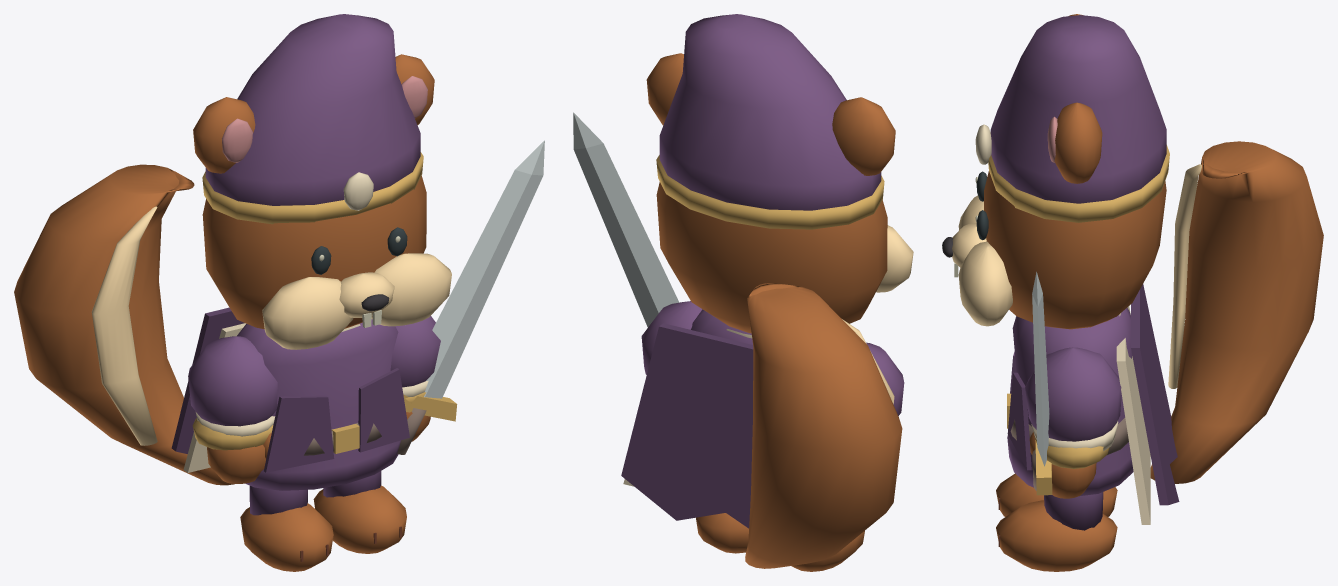
The model's file is giant.glb.
3 renders of one model, left to right at view 1: azimuth 30°, elevation 25°; view 2: azimuth 150°, elevation 25°; view 3: azimuth 270°, elevation 25°, orthographic. The views are drawn at different scales.
Parts seen in each view (by area): view 1: Squirrel large curled tail, Folded Persian tiara, Animal cheek head, Short folded tunic, Shaped bevel sword, Squirrel pale tail sweep, Puff sleeve, Squirrel plump cheek, Soft animal paw, Soft animal paw.001, Coat fold, Squirrel plump cheek.001 (+18 smaller); view 2: Squirrel large curled tail, Folded Persian tiara, Short scalloped cape, Animal cheek head, Shaped bevel sword, Tiara gold band, Squirrel rounded ear, Squirrel rounded ear.001, Soft animal paw.001, Puff sleeve.001, Squirrel plump cheek, Puff sleeve (+2 smaller); view 3: Squirrel large curled tail, Folded Persian tiara, Animal cheek head, Puff sleeve.001, Short folded tunic, Soft animal paw.001, Short scalloped cape, Tiara gold band, Squirrel plump cheek.001, Squirrel rounded ear.001, Persian shoulder drape, Squirrel pale tail sweep (+11 smaller).
Boxes of the visible parts, x1,y1,x2,y2 form: Squirrel large curled tail: [14, 164, 234, 485]; Folded Persian tiara: [205, 14, 420, 205]; Animal cheek head: [202, 175, 426, 329]; Short folded tunic: [237, 319, 400, 490]; Shaped bevel sword: [424, 140, 544, 398]; Squirrel pale tail sweep: [91, 206, 157, 445]; Puff sleeve: [188, 336, 277, 426]; Squirrel plump cheek: [262, 277, 353, 349]; Soft animal paw: [240, 503, 333, 571]; Soft animal paw.001: [313, 485, 406, 553]; Coat fold: [264, 395, 334, 472]; Squirrel plump cheek.001: [371, 253, 451, 326]; Squirrel large curled tail: [745, 283, 902, 568]; Folded Persian tiara: [659, 14, 881, 210]; Short scalloped cape: [621, 323, 753, 528]; Animal cheek head: [656, 182, 887, 333]; Shaped bevel sword: [573, 112, 679, 327]; Tiara gold band: [656, 155, 884, 229]; Squirrel rounded ear: [832, 97, 895, 175]; Squirrel rounded ear.001: [646, 53, 683, 125]; Soft animal paw.001: [696, 513, 748, 553]; Puff sleeve.001: [641, 301, 702, 374]; Squirrel plump cheek: [876, 225, 913, 292]; Puff sleeve: [866, 342, 904, 415]; Squirrel large curled tail: [1150, 141, 1323, 483]; Folded Persian tiara: [990, 15, 1166, 203]; Animal cheek head: [984, 171, 1166, 329]; Puff sleeve.001: [1025, 347, 1121, 441]; Short folded tunic: [1007, 307, 1133, 496]; Soft animal paw.001: [996, 500, 1117, 571]; Short scalloped cape: [1131, 284, 1179, 505]; Tiara gold band: [988, 145, 1169, 222]; Squirrel plump cheek.001: [958, 241, 1012, 326]; Squirrel rounded ear.001: [1054, 102, 1102, 183]; Persian shoulder drape: [1116, 306, 1150, 524]; Squirrel pale tail sweep: [1168, 164, 1201, 388].
Bounding box in the file's own units: 2.07 × 2.45 × 1.58.
